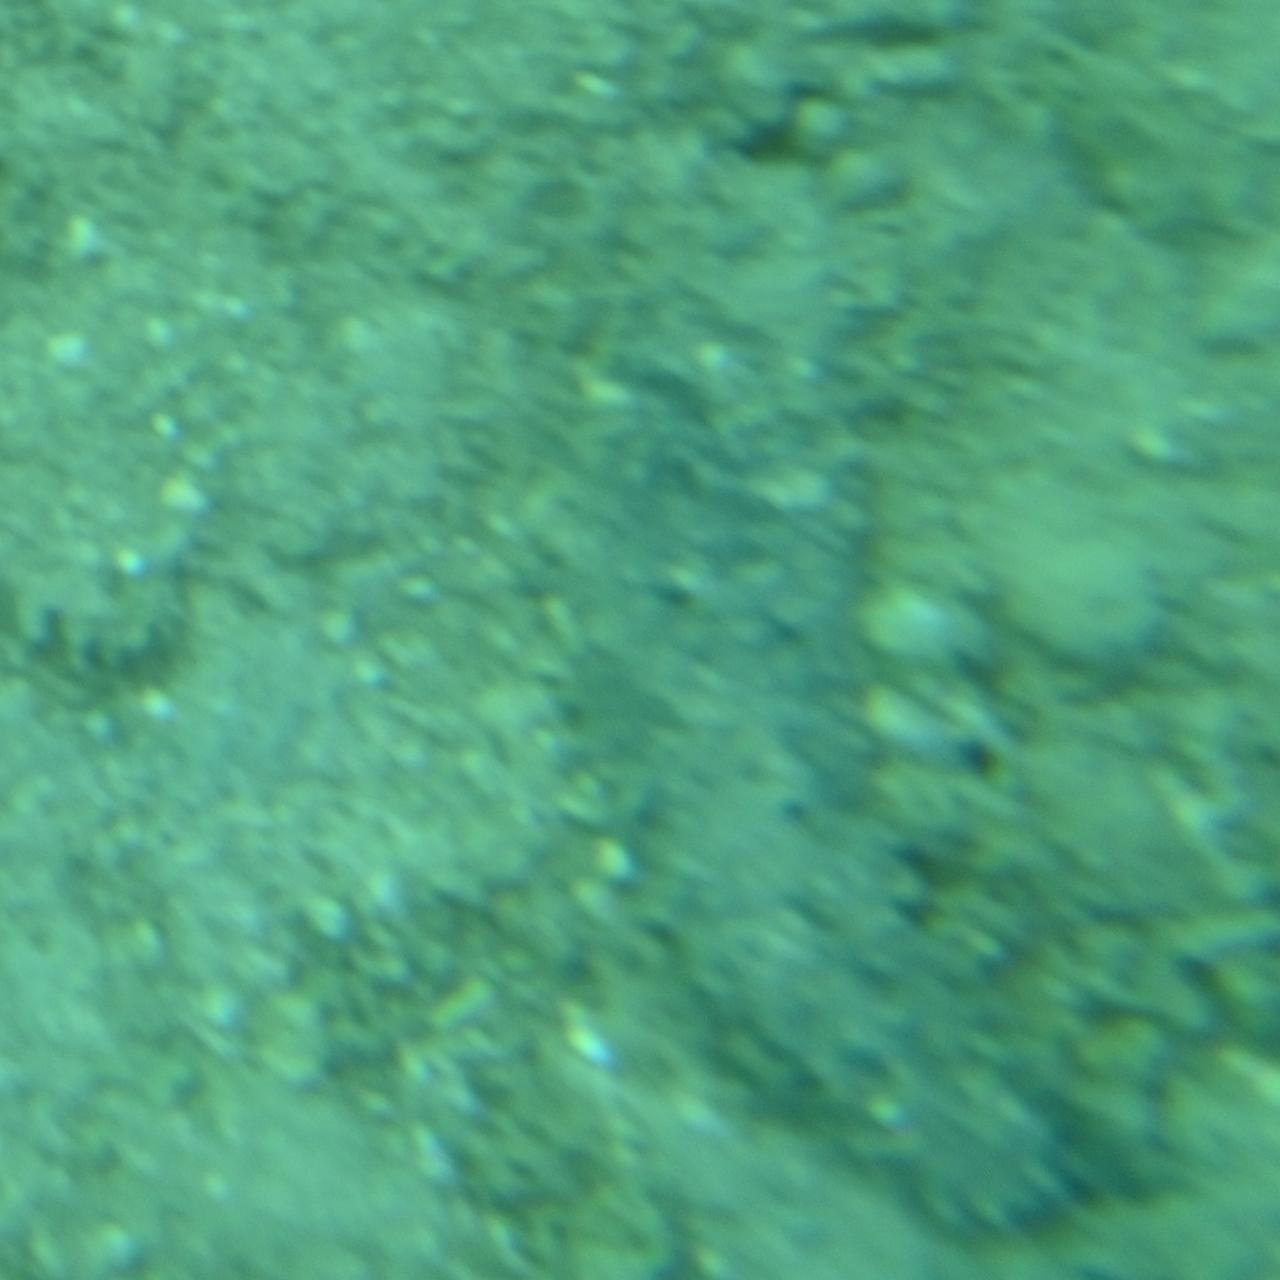Holothuria tubulosa: (527, 152, 1180, 1250)
